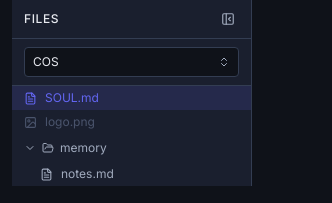
Test: EditorSidebar › renders agent dropdown with agents
This screenshot has width=332, height=203.
expect the text "COS" is shown: met, box [33, 54, 59, 70]
Open the dropdown and verify option text
Click the button with aria-label "Select agent".
click(132, 62)  # box [24, 47, 239, 77]
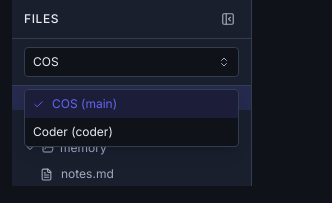
expect the text "COS (main)" is shown: met, box [52, 96, 117, 112]
